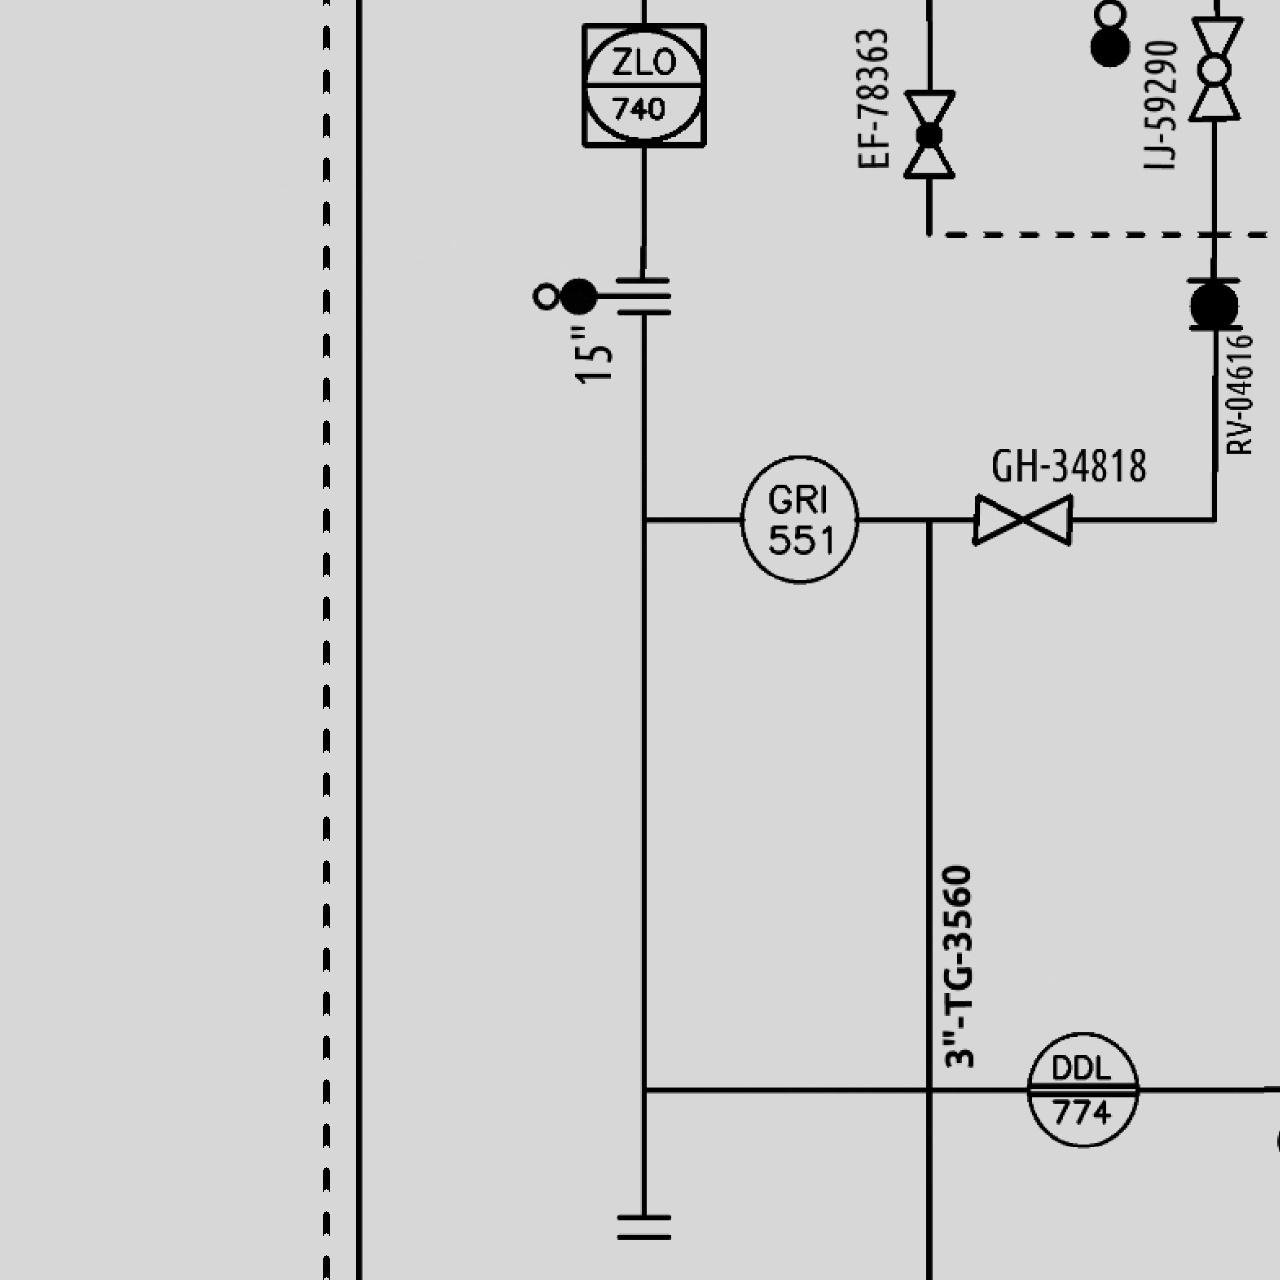Control-Panel: (1017, 1026, 1146, 1151)
